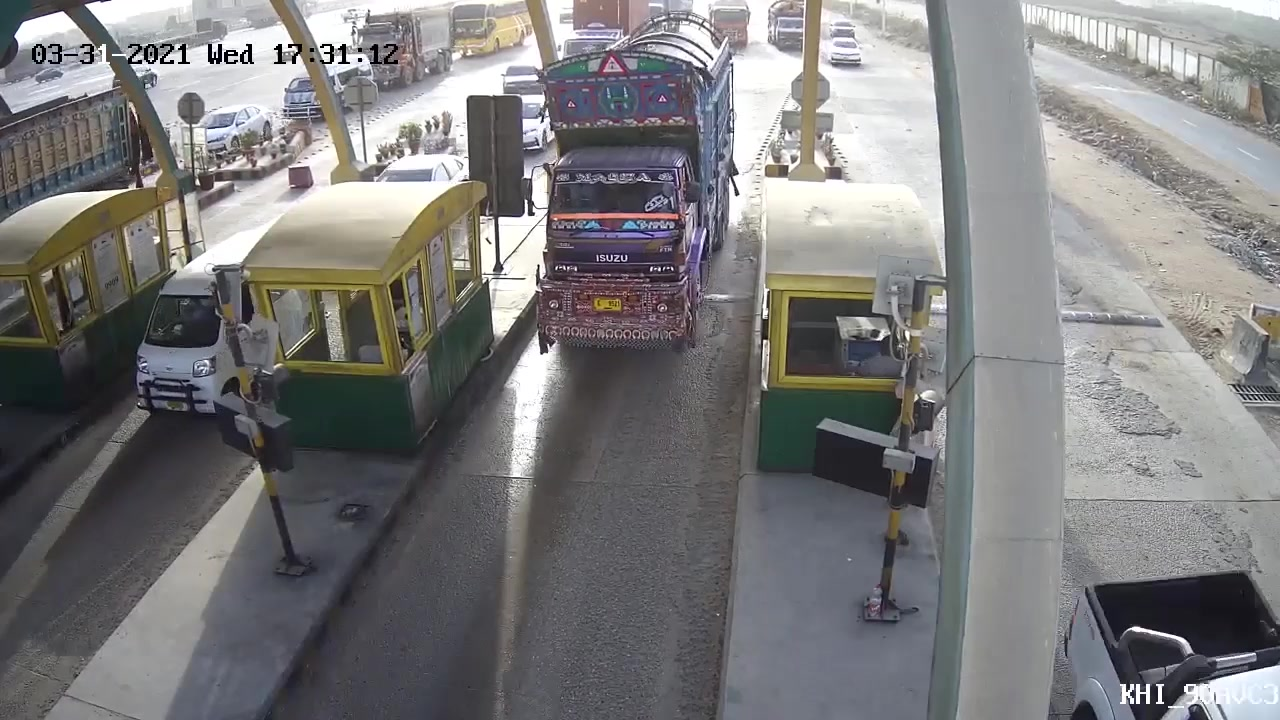F5: (521, 12, 751, 361)
